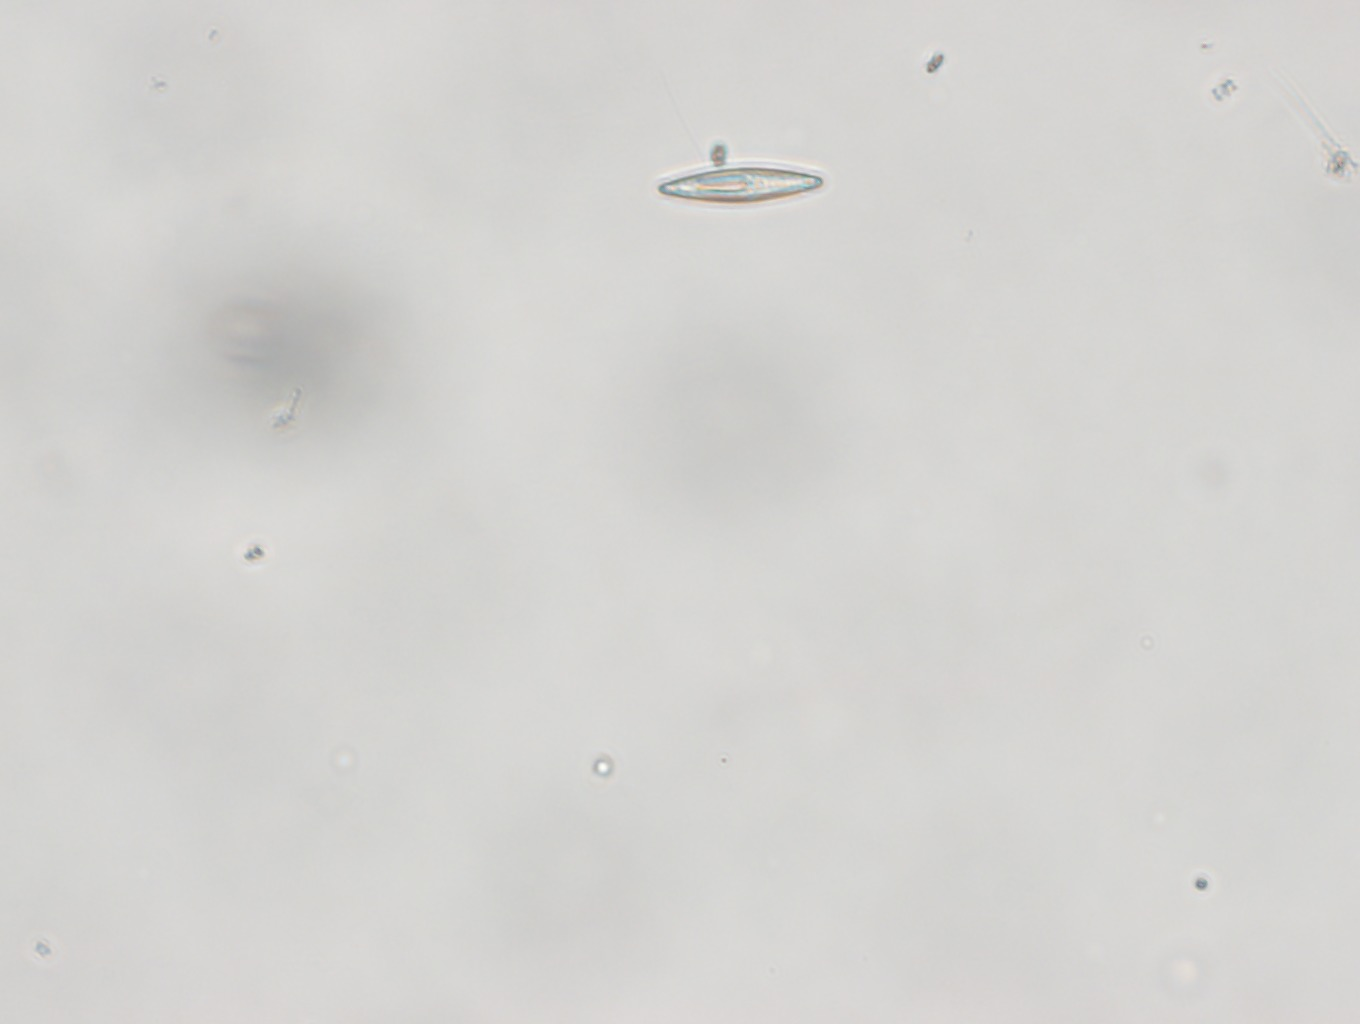navicula: (654, 159, 828, 207)
